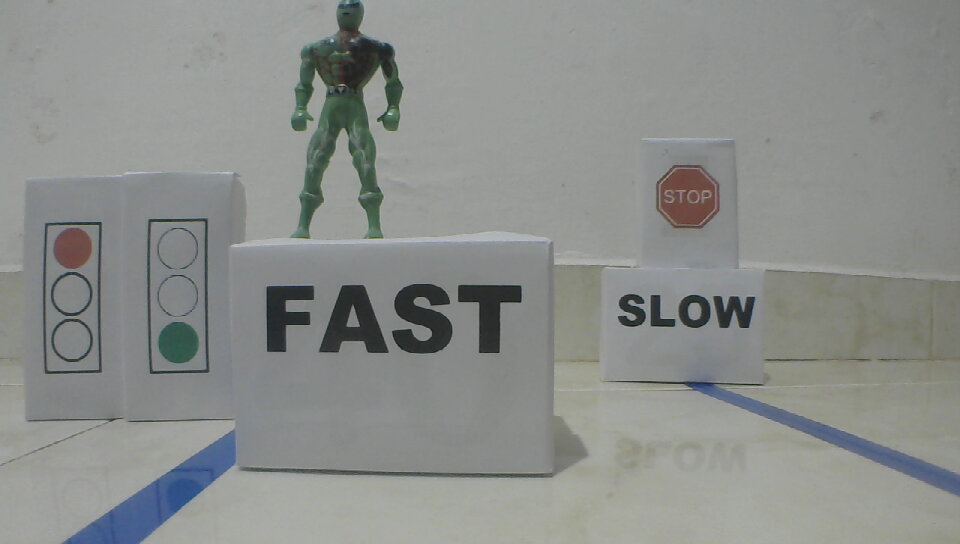Fast: (264, 281, 524, 357)
Green Traffic Light: (145, 215, 212, 376)
Person: (285, 1, 407, 241)
Red Traffic Light: (40, 219, 106, 378)
Slow: (615, 290, 760, 333)
Stop Sign: (655, 163, 722, 231)
